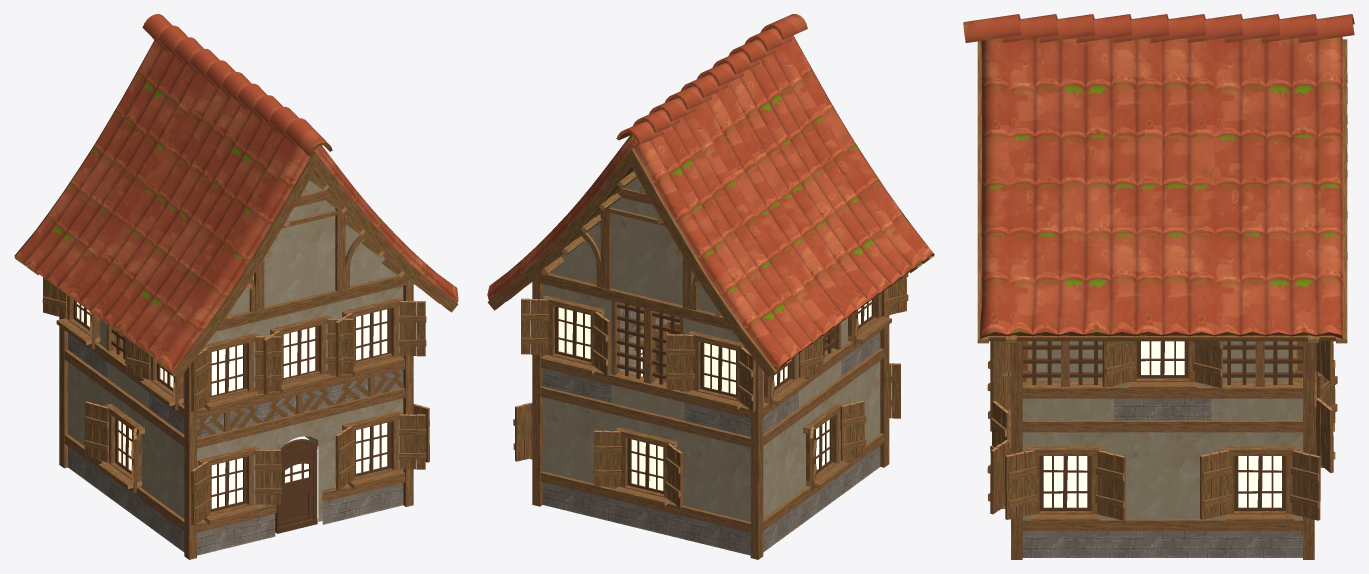
File: kit-townhouse.glb
3 views of the same model, side by side, from view 1: azimuth 30°, elevation 25°; view 2: azimuth 150°, elevation 25°; view 3: azimuth 270°, elevation 25° (orthographic). The views are drawn at different scales.
Parts seen in each view (by area): view 1: house; view 2: house; view 3: house.
Boxes of the visible parts, left/top/right/bottom form: house: left=14, top=14, right=458, bottom=559; house: left=487, top=14, right=934, bottom=559; house: left=963, top=14, right=1354, bottom=559.
Size of the model in its own units: 8.25 by 10.89 by 8.03.
Materials: 8 (7 with a texture image).
